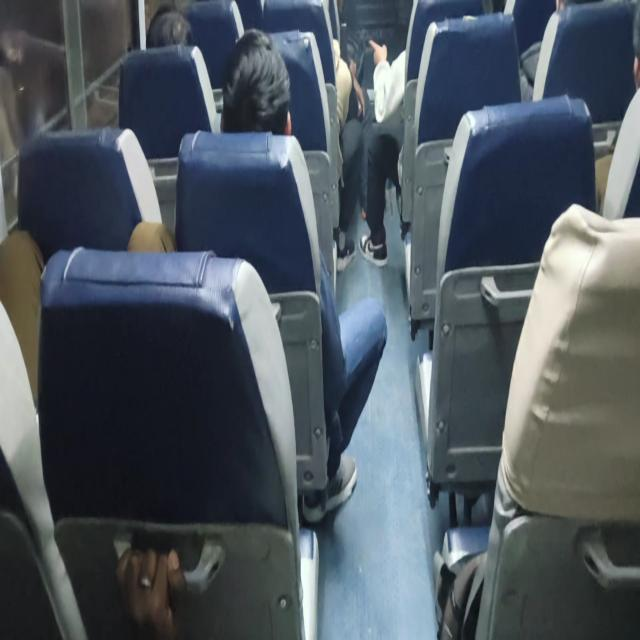person: (127, 28, 388, 522), (358, 0, 486, 268), (358, 38, 407, 268), (594, 1, 640, 218), (219, 28, 292, 136), (331, 37, 364, 272), (114, 544, 188, 638), (145, 5, 194, 48)
